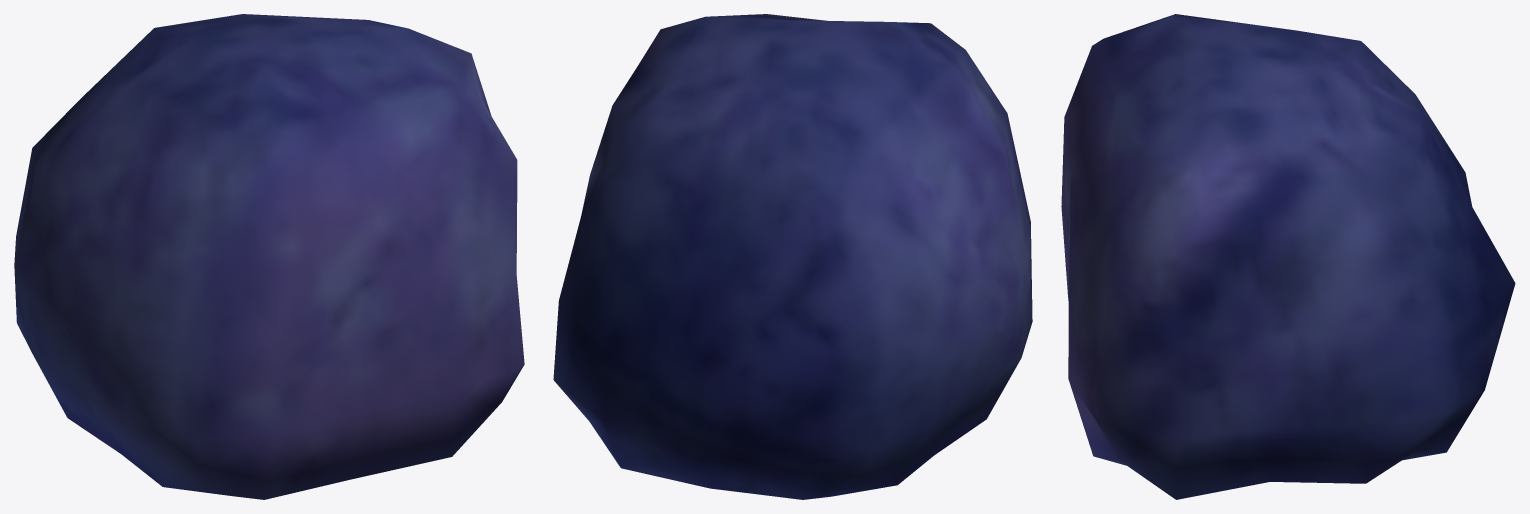
The model's file is Stone002.fbx.
3 views of the same model, side by side, from view 1: azimuth 30°, elevation 25°; view 2: azimuth 150°, elevation 25°; view 3: azimuth 270°, elevation 25° (orthographic). The views are drawn at different scales.
Visible parts, largest first — view 1: stone; view 2: stone; view 3: stone.
Part boxes in pixels (x1,y1,x2,y2): stone: [14, 14, 524, 499]; stone: [553, 14, 1032, 499]; stone: [1061, 14, 1515, 499].
Size of the model in its own units: 1.08 by 1.03 by 1.06.
Materials: 1 (1 with a texture image).
